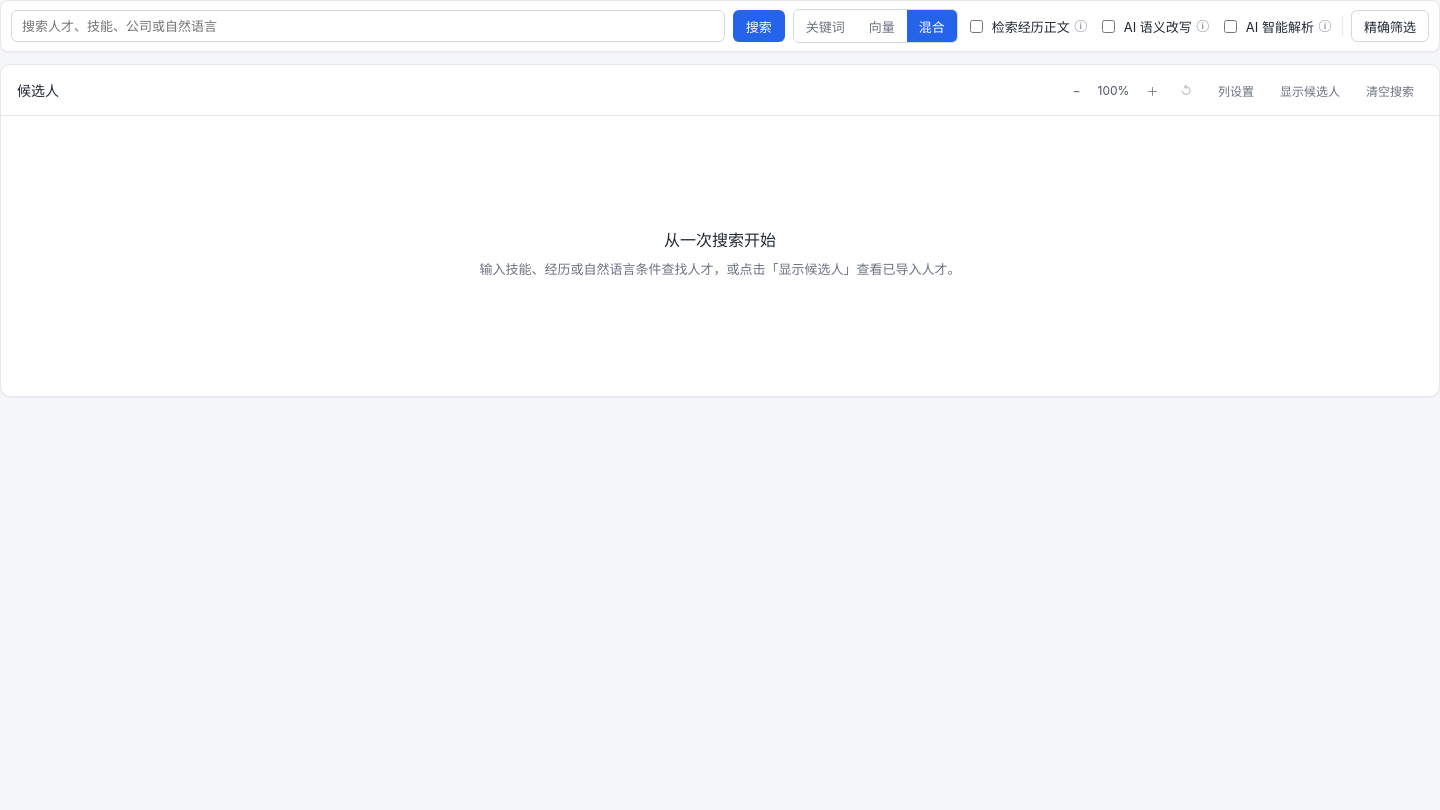
点二级细分写入细分并收起面板
Click the button "精确筛选".
click(1390, 26)  # box left=1351, top=10, right=1429, bottom=42
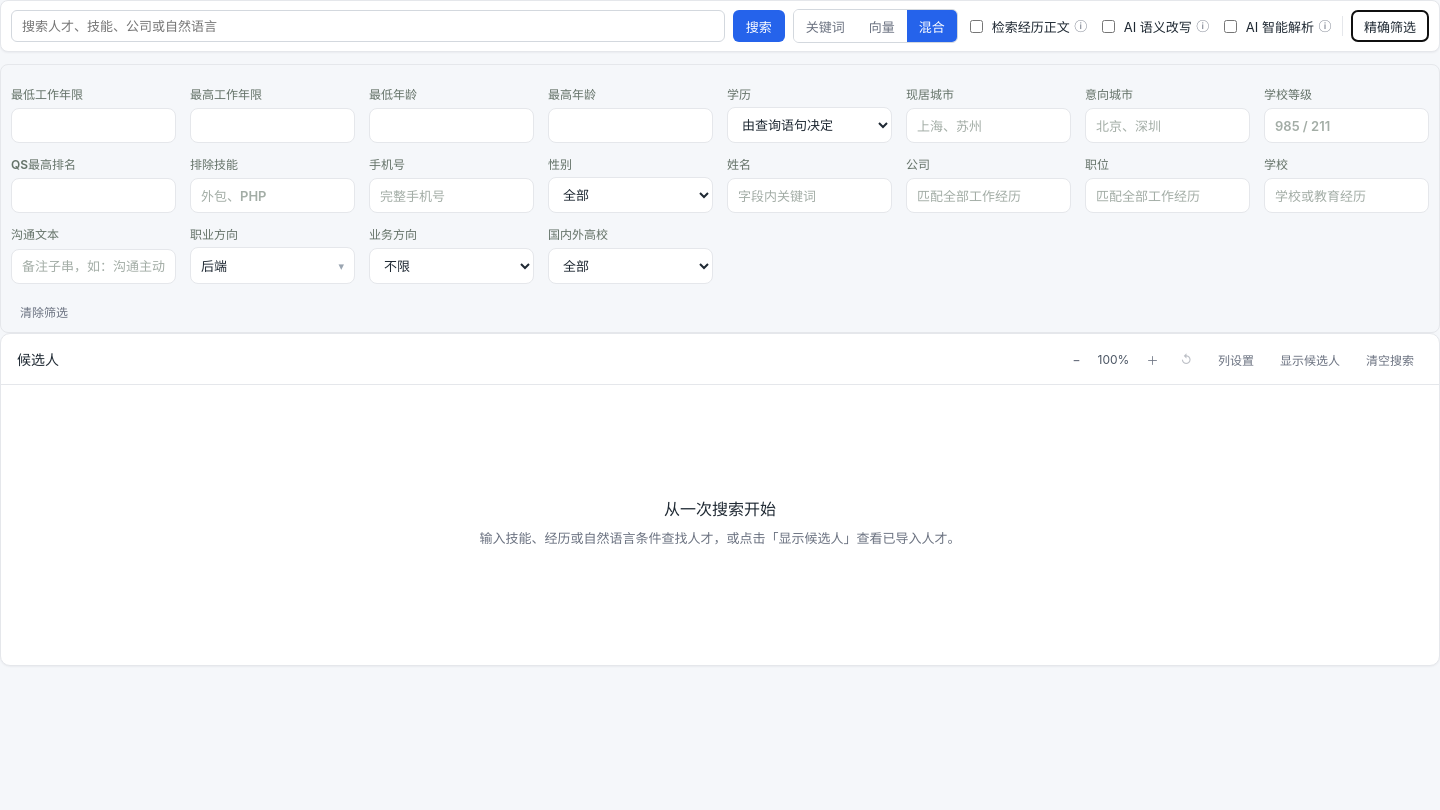
Click the button with aria-label "职业方向".
click(272, 266)  # box left=190, top=247, right=355, bottom=284
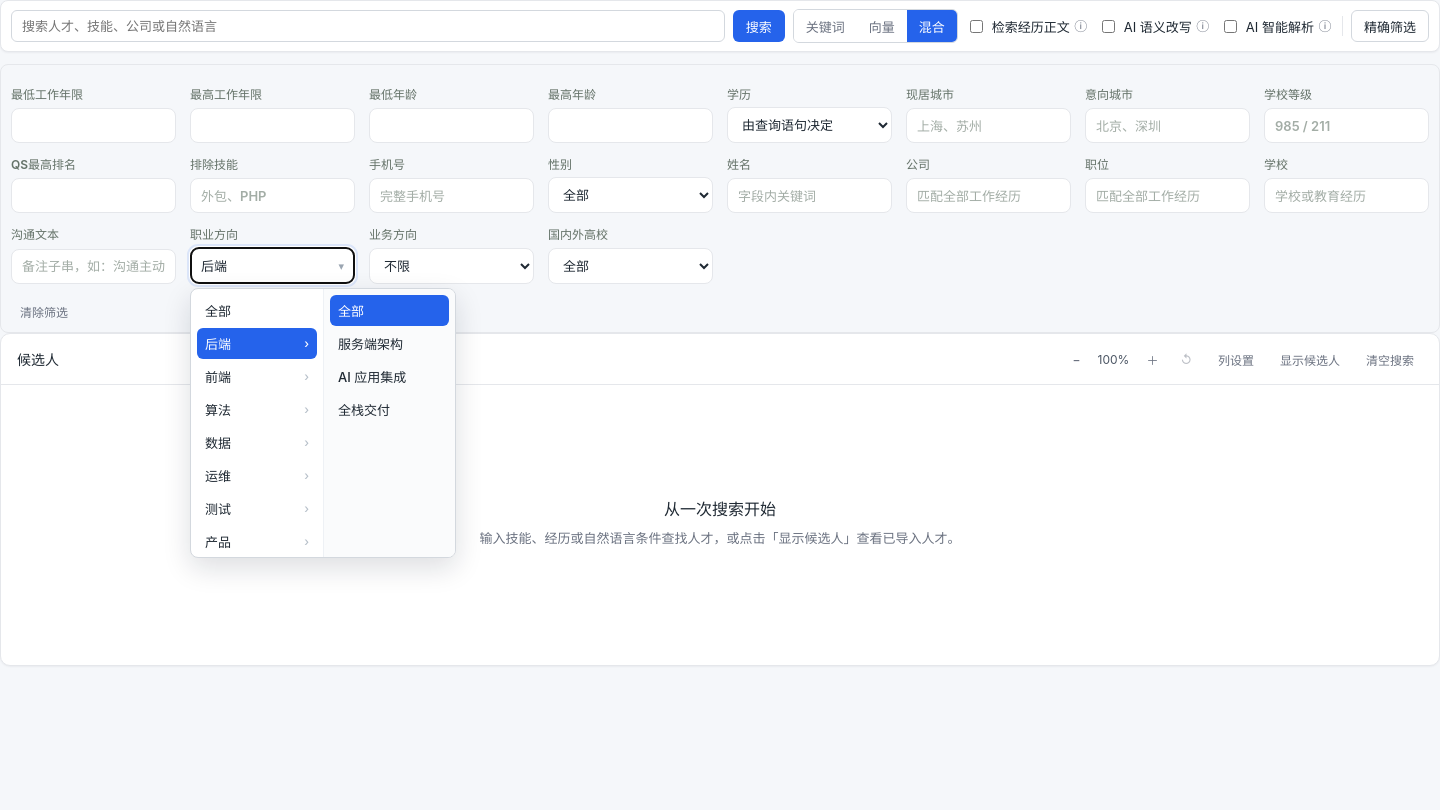
Click the button "服务端架构".
click(390, 344)  # box left=330, top=328, right=449, bottom=359
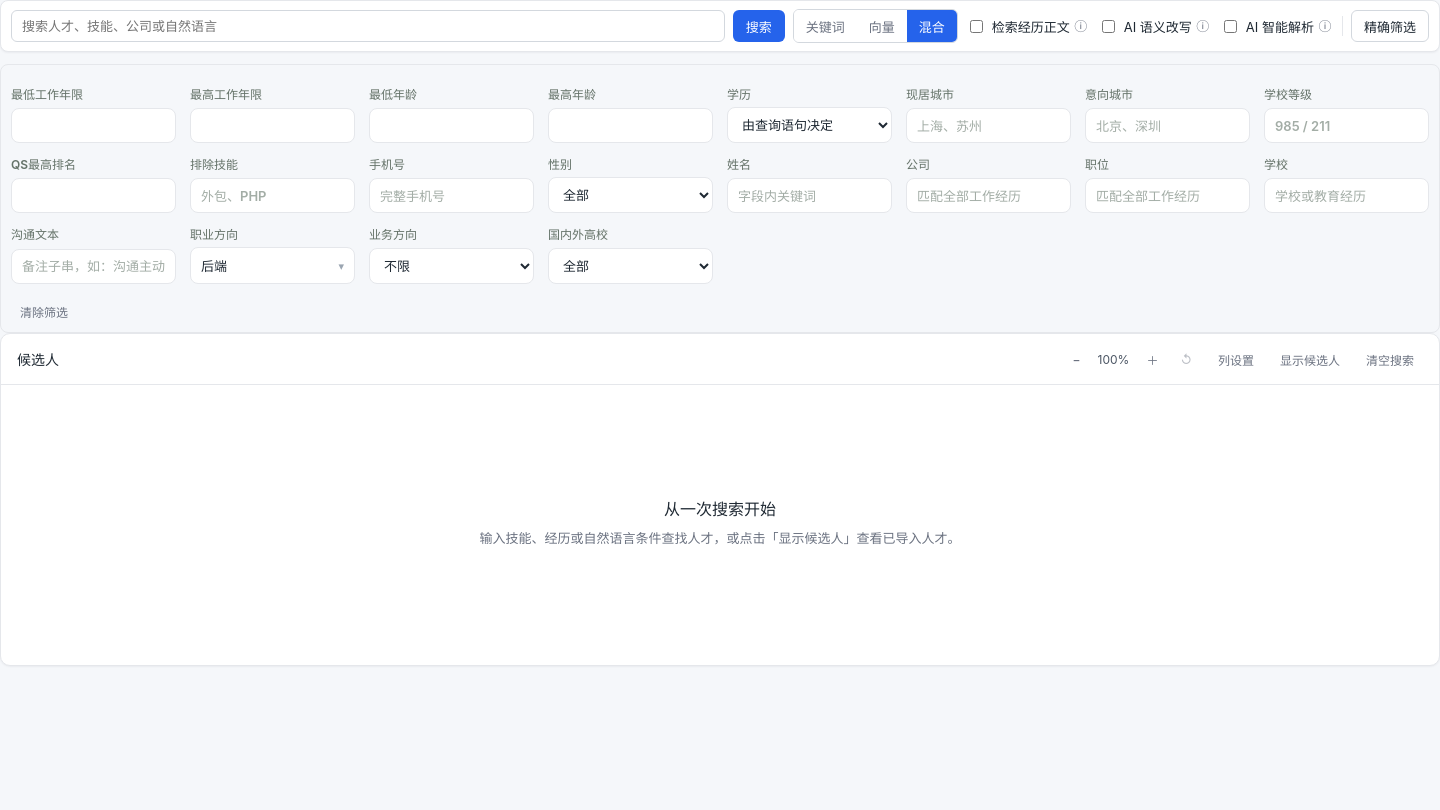
expect the element "职业方向选项" is gone: met
